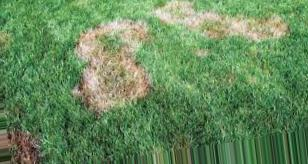patch: (92, 49, 131, 98), (165, 7, 207, 39), (215, 11, 256, 39), (118, 13, 154, 44), (71, 45, 87, 91), (265, 17, 289, 40), (75, 27, 107, 37)
